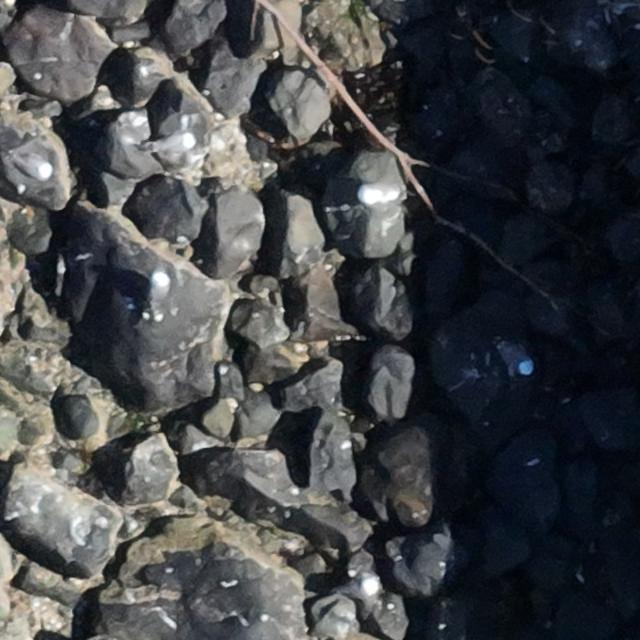umineko: (145, 132, 195, 154), (500, 342, 534, 374), (15, 153, 52, 179), (337, 578, 380, 600), (151, 272, 169, 311)
